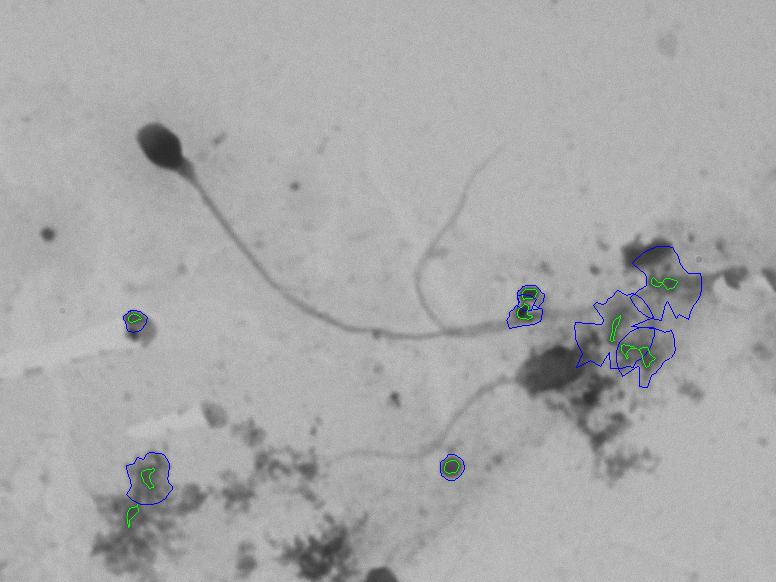Abnormal: (94, 66, 360, 273)
